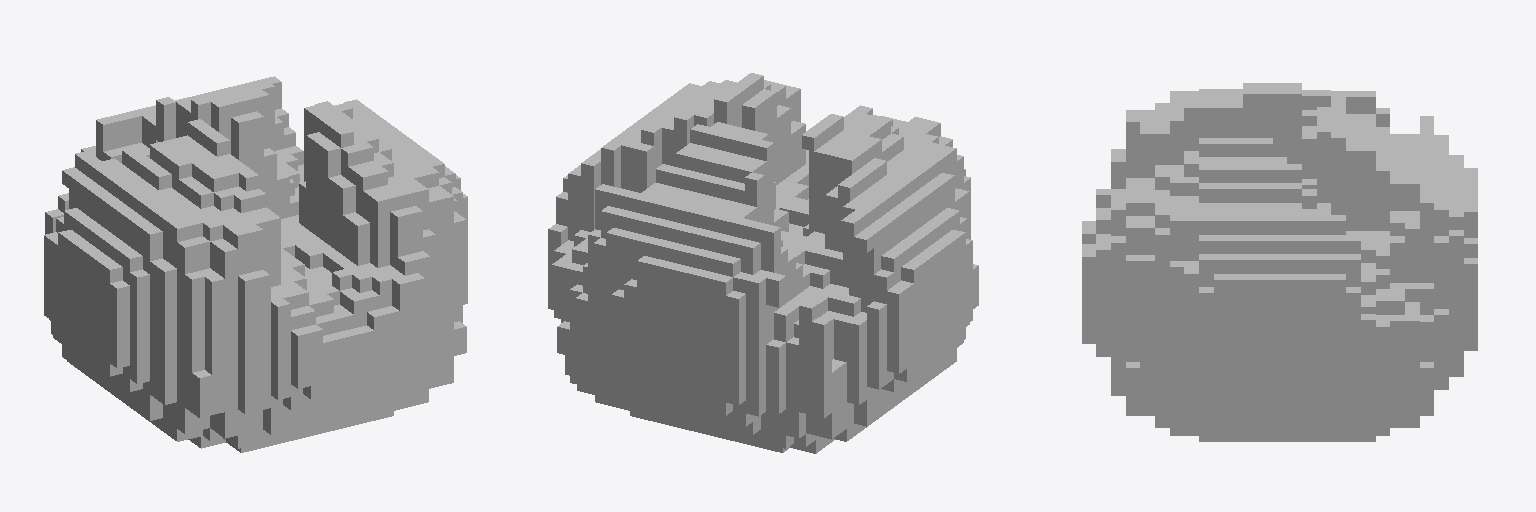
Rendered from pumpkin_damaged.obj.
3 views of the same model, side by side, from view 1: azimuth 30°, elevation 25°; view 2: azimuth 150°, elevation 25°; view 3: azimuth 270°, elevation 25° (orthographic).
Parts seen in each view (by area): view 1: pumpkin_damaged; view 2: pumpkin_damaged; view 3: pumpkin_damaged.
Boxes of the visible parts, <box> form: pumpkin_damaged: <box>44,76,467,452</box>; pumpkin_damaged: <box>548,73,978,453</box>; pumpkin_damaged: <box>1082,83,1477,441</box>.
Size of the model in its own units: 27 by 21 by 27.